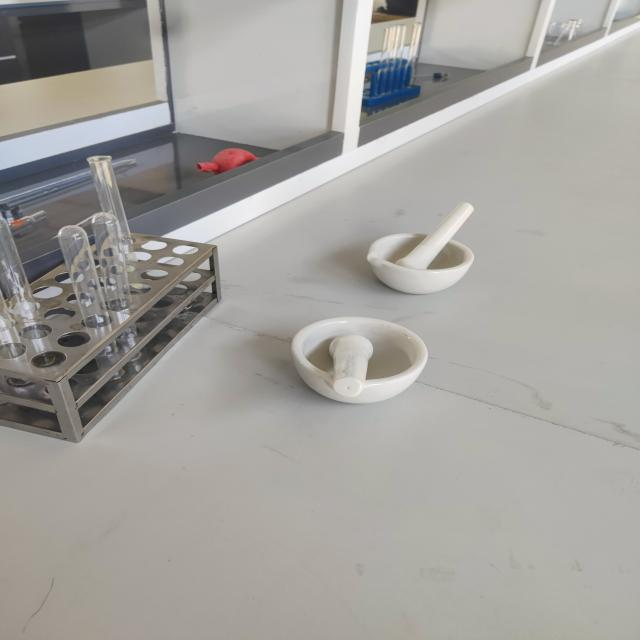Porcelain_Mortar Pestle: (269, 298, 444, 431), (348, 181, 507, 317)
